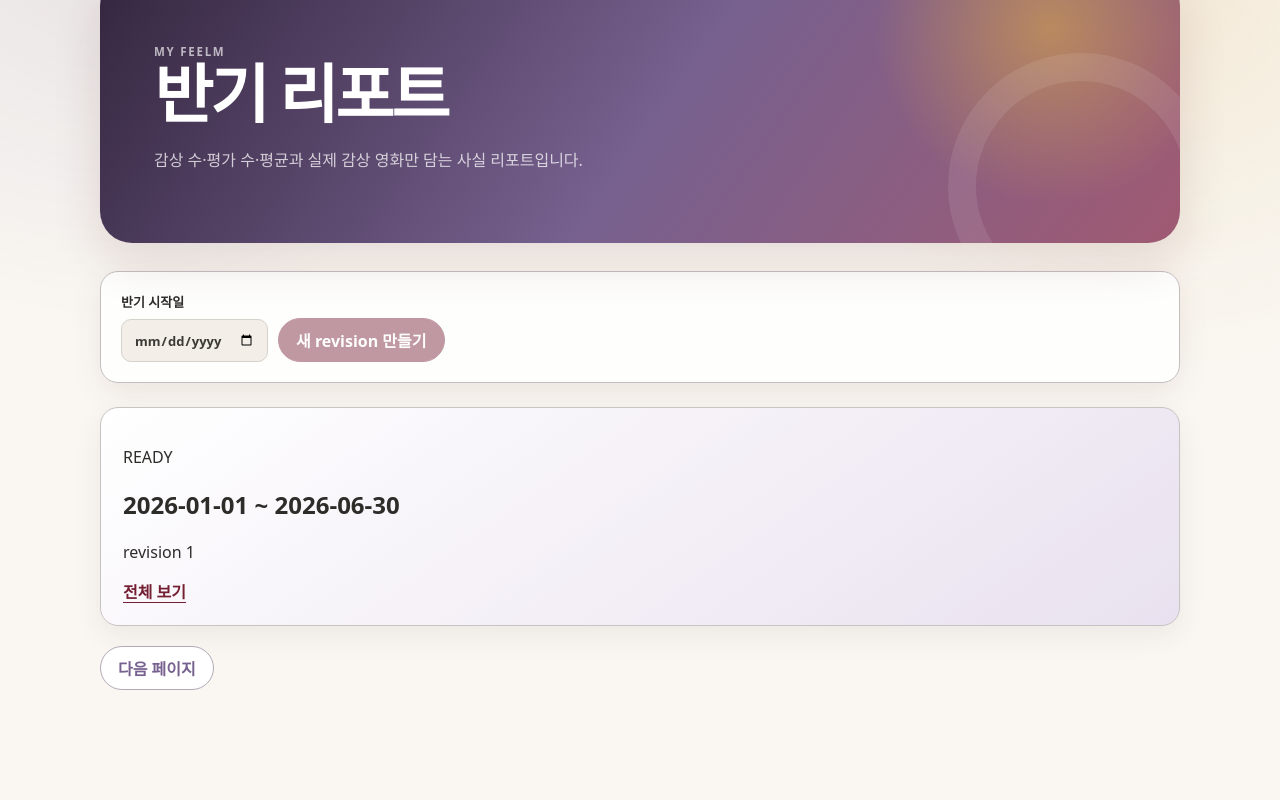
Test: C5 local report/profile vertical › report 목록과 상세 actual movie를 cursor 끝까지 누적한다
The image size is (1280, 800).
Expected: the heading "2026-01-01 ~ 2026-06-30" is shown, top-left (123, 488), bottom-right (400, 521)
Click the button "다음 페이지": click(157, 668) top-left (100, 646), bottom-right (214, 690)
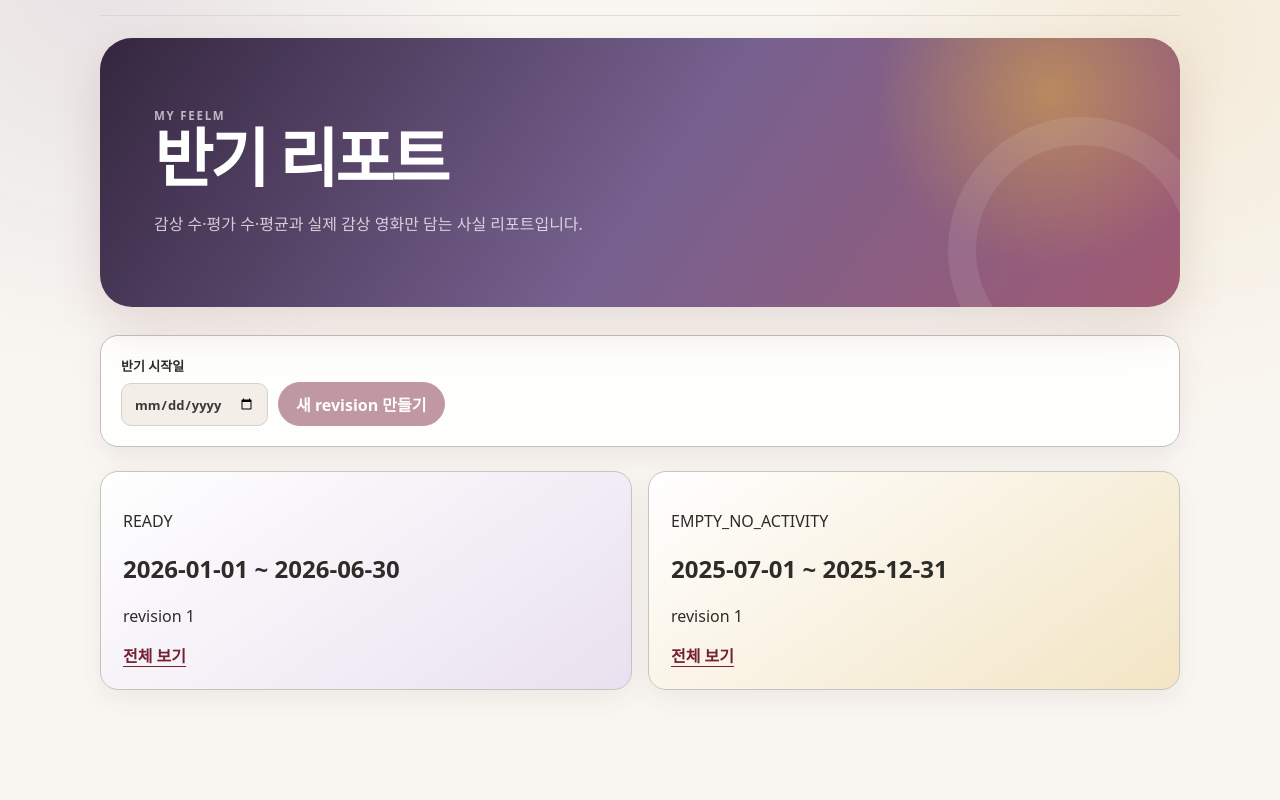
Result: the heading "2025-07-01 ~ 2025-12-31" is shown at top-left (671, 552), bottom-right (948, 585)
Click the link "전체 보기" below "2026-01-01 ~ 2026-06-30": click(154, 656) top-left (123, 645), bottom-right (186, 667)
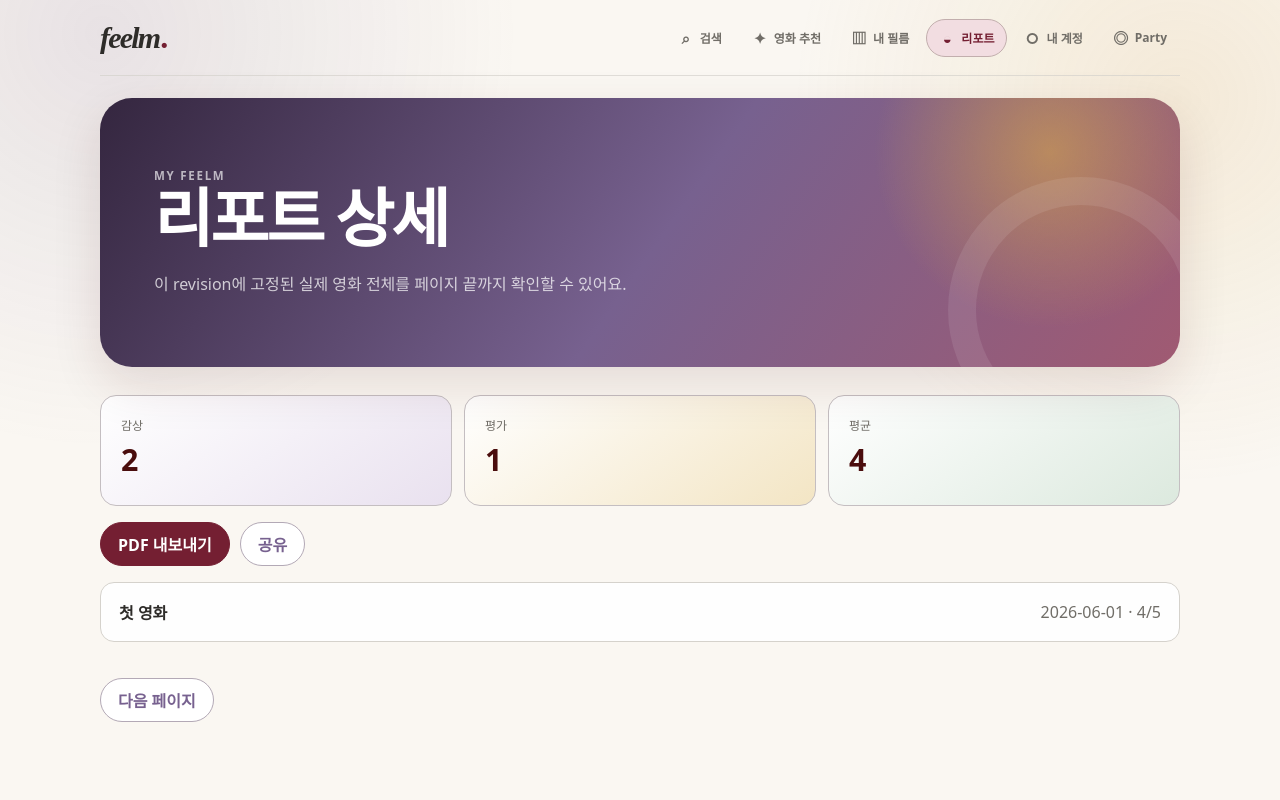
Result: the text "첫 영화" is shown at top-left (119, 600), bottom-right (167, 624)
Click the button "다음 페이지": click(157, 700) top-left (100, 678), bottom-right (214, 722)
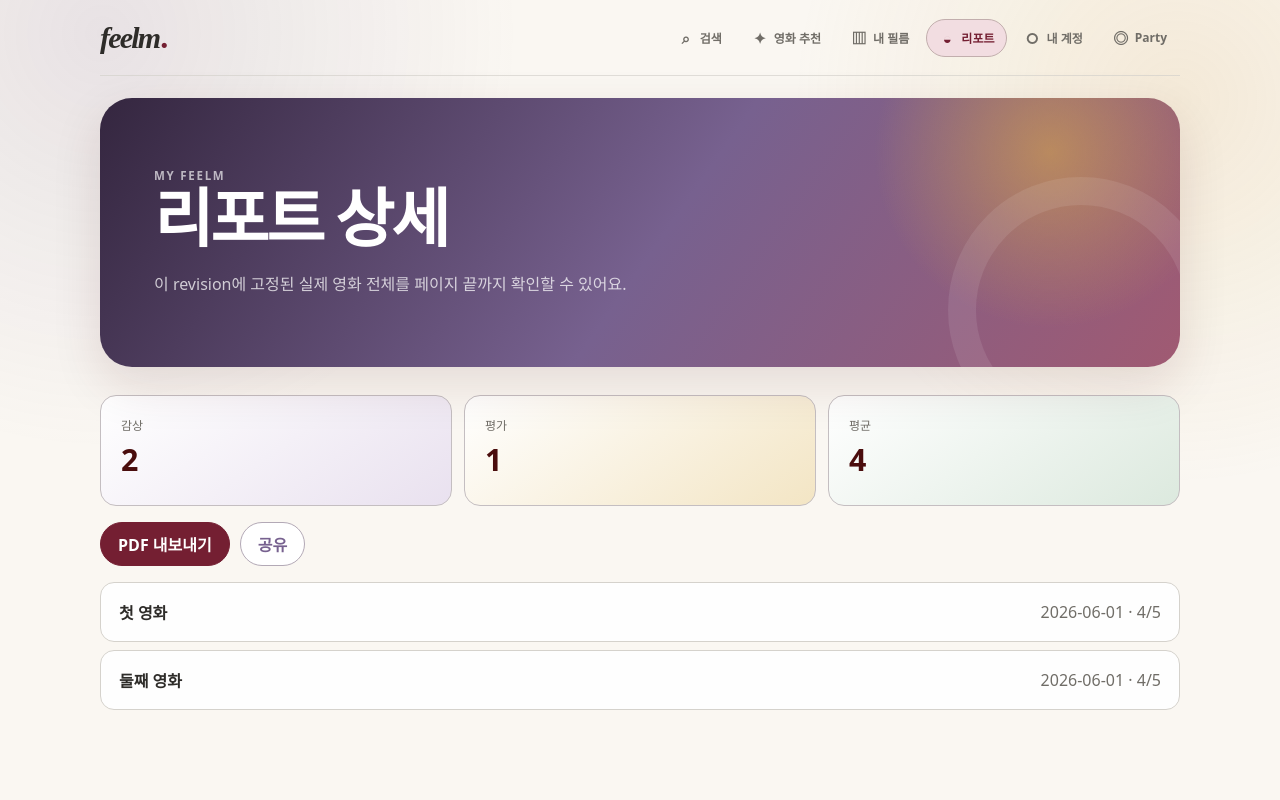
Result: the text "첫 영화" is shown at top-left (119, 600), bottom-right (167, 624)
Result: the text "둘째 영화" is shown at top-left (119, 668), bottom-right (182, 692)
